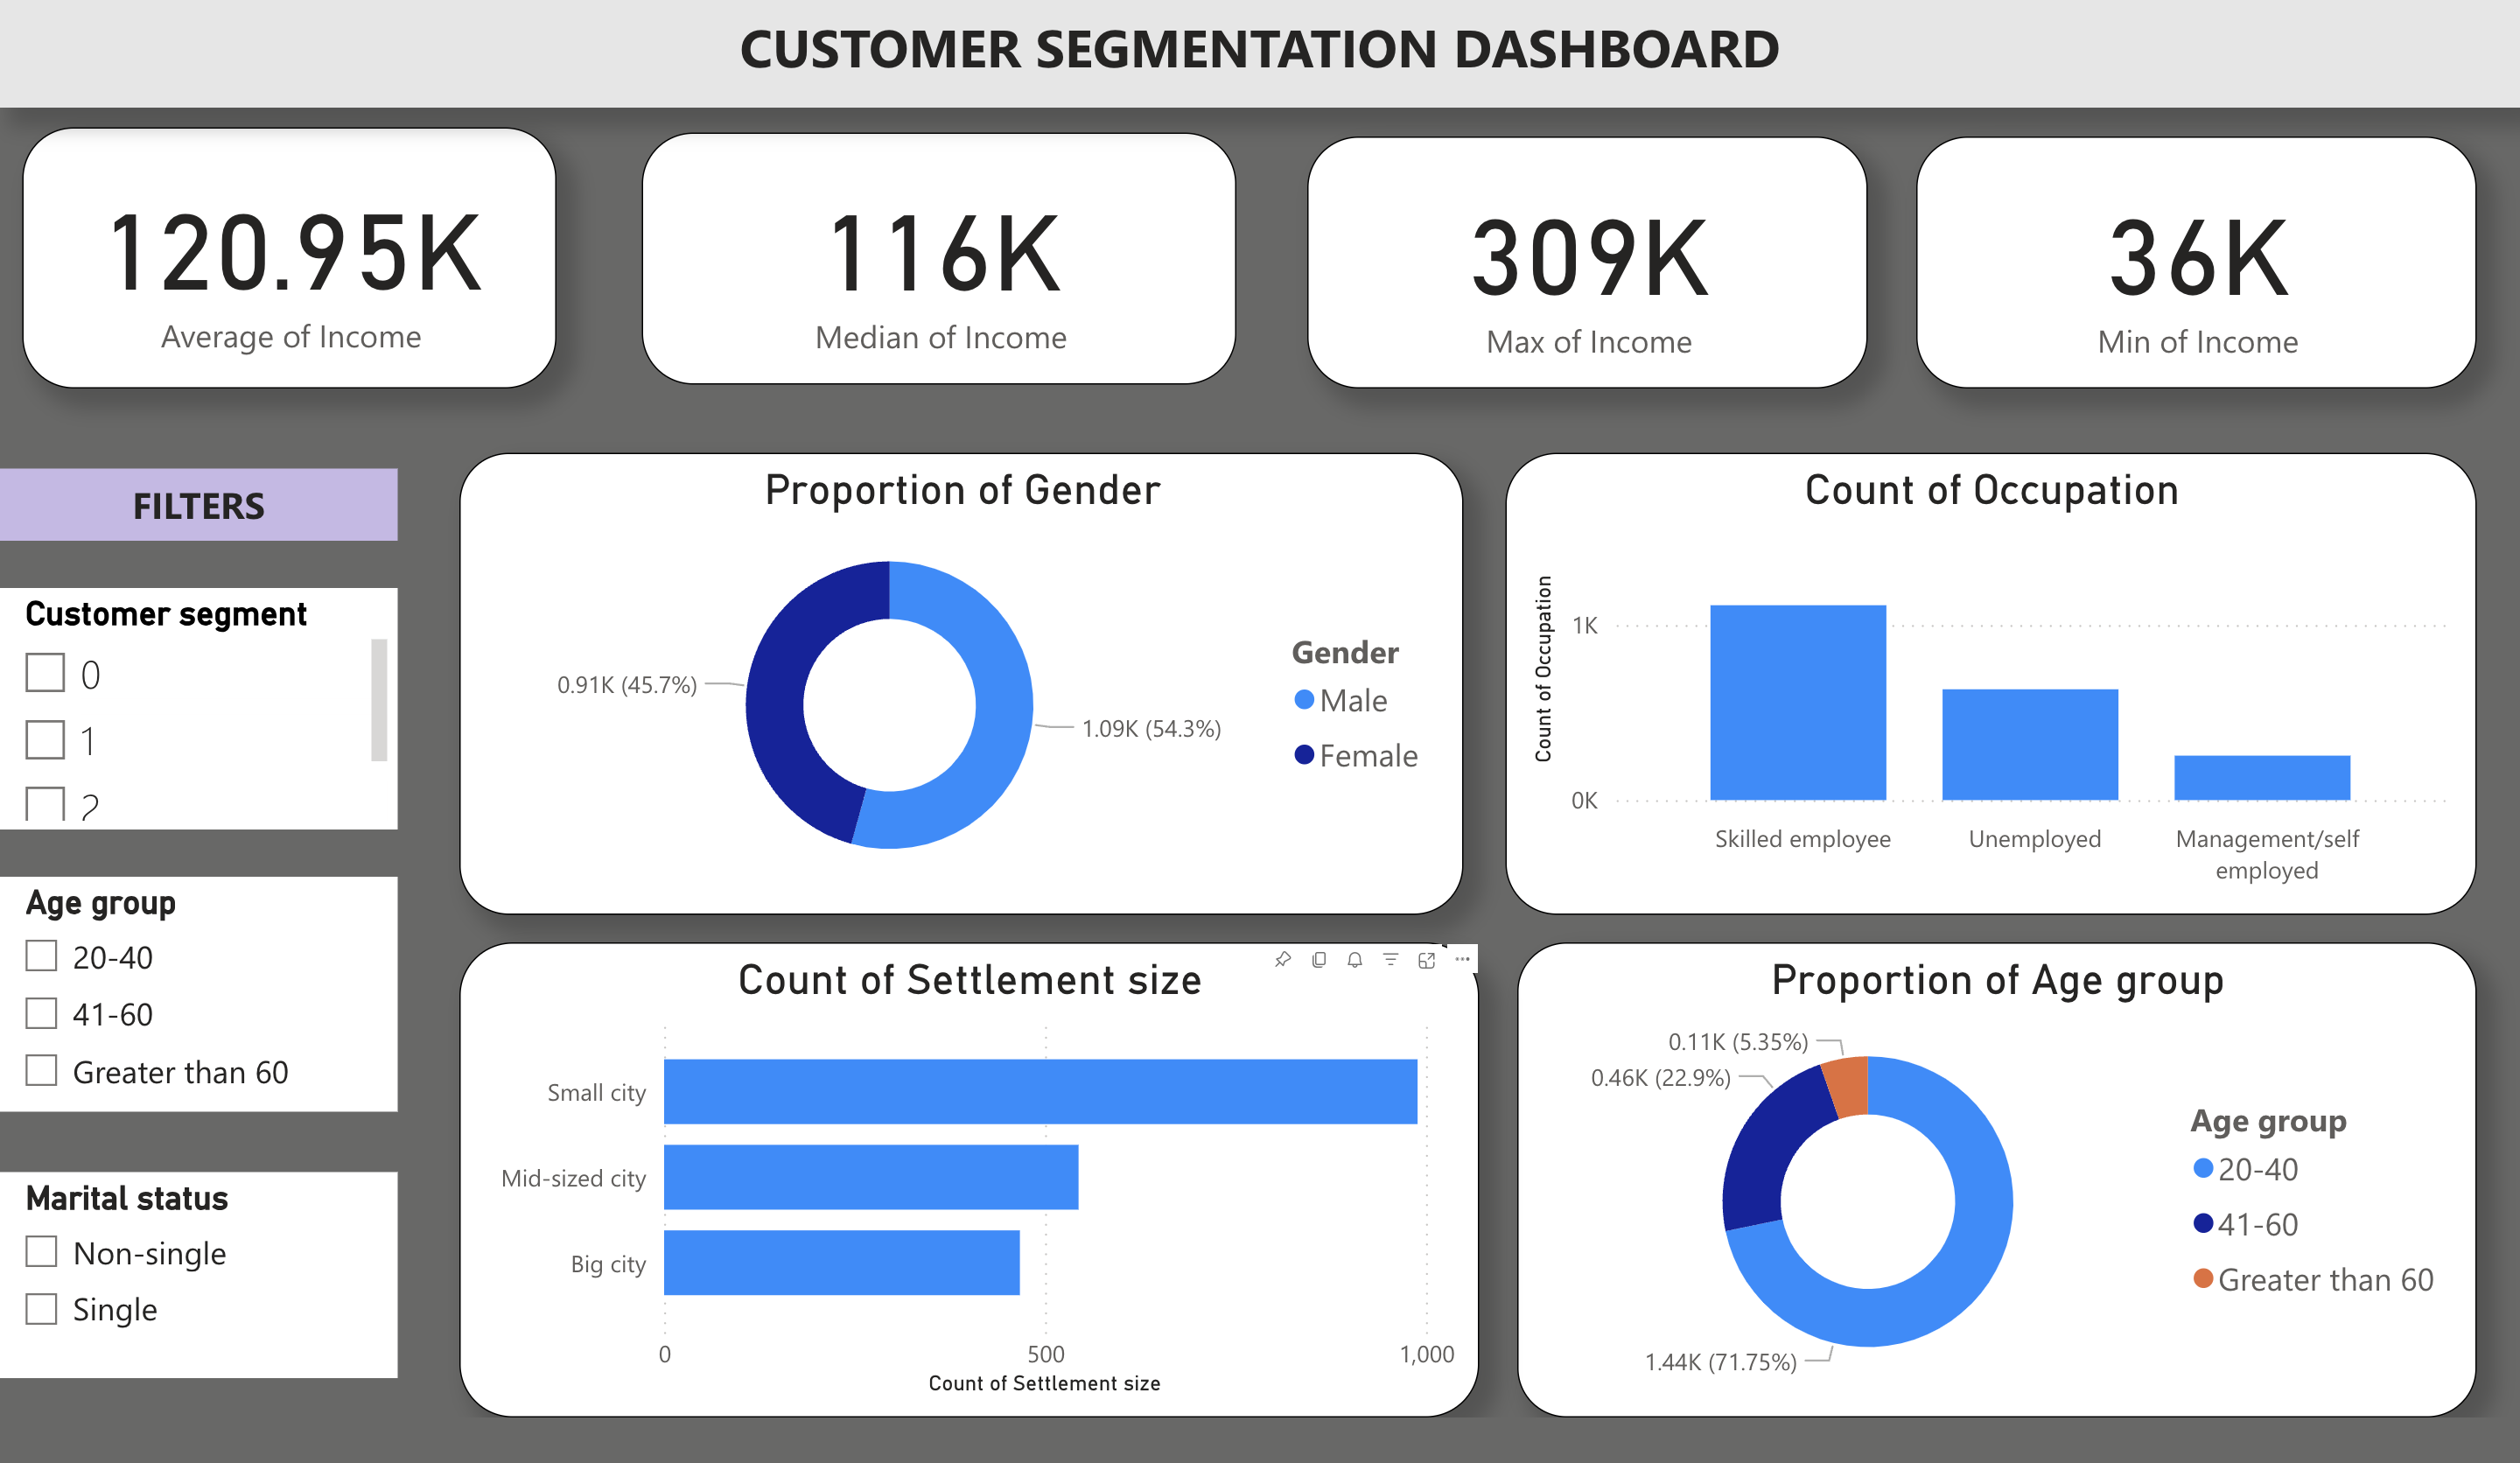

This screenshot's page, from the dashboard's own definition file:
{"tool":"powerbi","page":{"name":"Customer Segmentation","canvas":[1280,720],"ordinal":0},"visuals":[{"type":"slicer","fields":{"Values":["customer_segment.customer_segment"]},"box":[0,298.5,201.9,122.9],"z":0},{"type":"donutChart","title":"Proportion of Age group","fields":{"Y":["CountNonNull(customer_segment.Age_group)"],"Category":["customer_segment.Age_group"]},"box":[770.8,478.5,487.2,241.4],"z":1000},{"type":"card","fields":{"Values":["Avg(customer_segment.Income)"]},"box":[11.4,65,271.3,132.6],"z":2000},{"type":"columnChart","title":"Count of Occupation ","fields":{"Y":["CountNonNull(customer_segment.Occupation)"],"Category":["customer_segment.Occupation"]},"box":[764.7,230,493.4,234.4],"z":3000},{"type":"donutChart","title":"Proportion of Gender","fields":{"Y":["CountNonNull(customer_segment.Sex)"],"Category":["customer_segment.Sex"]},"box":[233.5,230,510.1,234.4],"z":4000},{"type":"barChart","title":"Count of Settlement size","fields":{"Category":["customer_segment.Settlement size"],"Y":["CountNonNull(customer_segment.Settlement size)"]},"box":[233.5,478.5,518,241.4],"z":5000},{"type":"card","fields":{"Values":["Median(customer_segment.Income)"]},"box":[325.7,67.6,302,128.2],"z":6000},{"type":"slicer","fields":{"Values":["customer_segment.Marital status"]},"box":[0,595.2,201.9,104.5],"z":7000},{"type":"slicer","fields":{"Values":["customer_segment.Age_group"]},"box":[0,445.1,201.9,119.4],"z":8000},{"type":"shape","box":[0,0,1280.2,54.7],"z":9000},{"type":"textbox","box":[0,0,1280.2,54.7],"z":10000},{"type":"textbox","box":[0,237.9,201.9,36.9],"z":11000},{"type":"card","fields":{"Values":["Max(customer_segment.Income)"]},"box":[663.7,69.4,284.4,128.2],"z":11001},{"type":"card","fields":{"Values":["Min(customer_segment.Income)"]},"box":[973.6,69.4,284.4,128.2],"z":11002}]}

Visuals, with their boxes in screenshot pixels (x1, y1, x2, y2):
slicer - customer_segment.customer_segment: [x1=19, y1=579, x2=411, y2=818]
"Proportion of Age group" donutChart: [x1=1516, y1=929, x2=2462, y2=1397]
card - Avg(customer_segment.Income): [x1=42, y1=126, x2=569, y2=383]
"Count of Occupation " columnChart: [x1=1504, y1=446, x2=2462, y2=901]
"Proportion of Gender" donutChart: [x1=473, y1=446, x2=1463, y2=901]
"Count of Settlement size" barChart: [x1=473, y1=929, x2=1479, y2=1397]
card - Median(customer_segment.Income): [x1=652, y1=131, x2=1238, y2=380]
slicer - customer_segment.Marital status: [x1=19, y1=1156, x2=411, y2=1359]
slicer - customer_segment.Age_group: [x1=19, y1=864, x2=411, y2=1096]
shape: [x1=19, y1=0, x2=2505, y2=106]
textbox: [x1=19, y1=0, x2=2505, y2=106]
textbox: [x1=19, y1=462, x2=411, y2=534]
card - Max(customer_segment.Income): [x1=1308, y1=135, x2=1860, y2=383]
card - Min(customer_segment.Income): [x1=1910, y1=135, x2=2462, y2=383]
